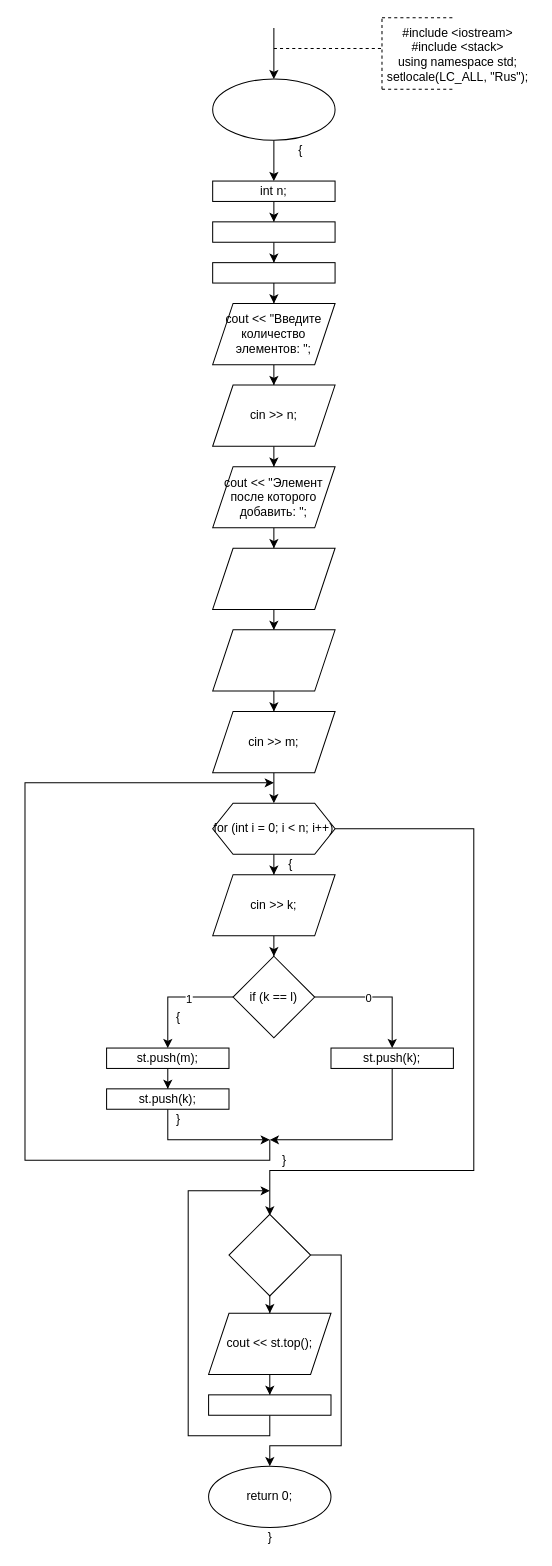
The diagram is 552 pixels wide and 1566 high, and some of its shapes have lost their labels. The shapes that lost their labels are listed below. From the top down, each one's centre as x and y in pixels, then its label:
pixel 273 109: int main()
pixel 273 231: char k, l, m;
pixel 273 272: stack <char> st;
pixel 273 578: cin >> l;
pixel 273 660: cout << "Значение нового элемента: ";
pixel 269 1254: while (!st.empty())
pixel 269 1404: st.pop();
